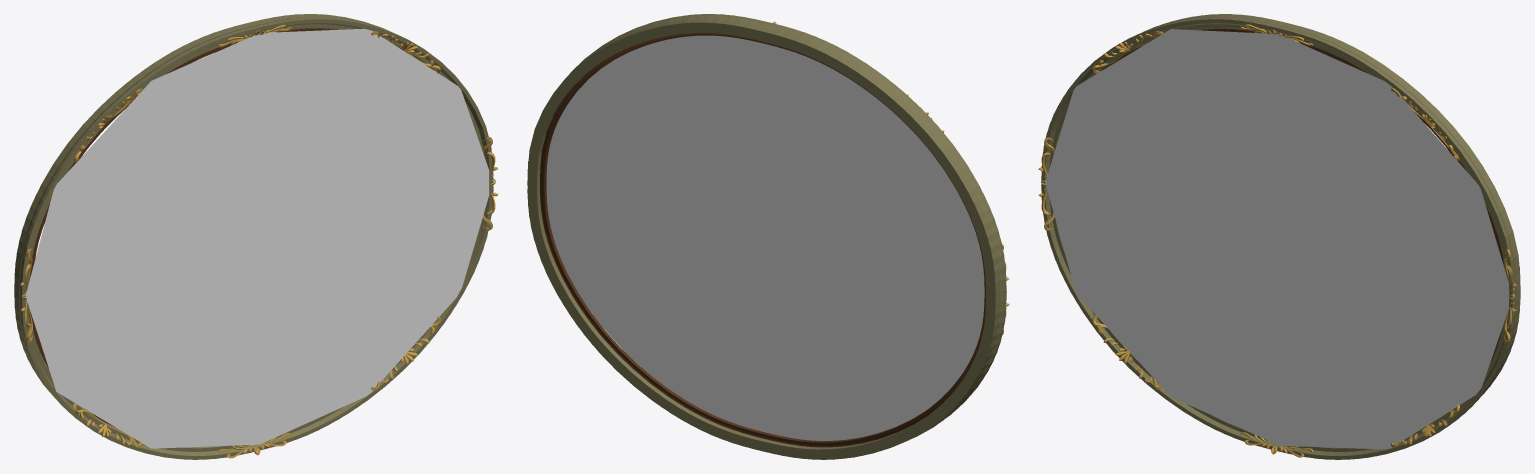
File: frame002_m.glb
The picture shows the model from 3 angles, left to right: view 1: azimuth 30°, elevation 25°; view 2: azimuth 150°, elevation 25°; view 3: azimuth 330°, elevation 25°; orthographic projection.
Parts seen in each view (by area): view 1: canvas_平面, frame_Cube.003, moyou022, frame_inner_Cube.001, Lines, moyou021_Lines.001; view 2: canvas_平面, frame_Cube.003, frame_inner_Cube.001; view 3: canvas_平面, frame_Cube.003, moyou022, Lines, frame_inner_Cube.001, moyou021_Lines.001.
Boxes of the visible parts, bbox=[...] form: canvas_平面: bbox=[25, 28, 489, 448]; frame_Cube.003: bbox=[14, 14, 493, 459]; moyou022: bbox=[73, 31, 440, 447]; frame_inner_Cube.001: bbox=[30, 28, 334, 427]; Lines: bbox=[20, 136, 498, 342]; moyou021_Lines.001: bbox=[218, 25, 291, 458]; canvas_平面: bbox=[546, 35, 984, 440]; frame_Cube.003: bbox=[527, 14, 1006, 459]; frame_inner_Cube.001: bbox=[540, 33, 985, 447]; canvas_平面: bbox=[1045, 29, 1509, 449]; frame_Cube.003: bbox=[1041, 14, 1520, 459]; moyou022: bbox=[1092, 31, 1459, 447]; Lines: bbox=[1038, 137, 1516, 342]; frame_inner_Cube.001: bbox=[1110, 28, 1503, 357]; moyou021_Lines.001: bbox=[1240, 24, 1313, 457].
Size of the model in its own units: 19.42 by 16.51 by 0.83.
